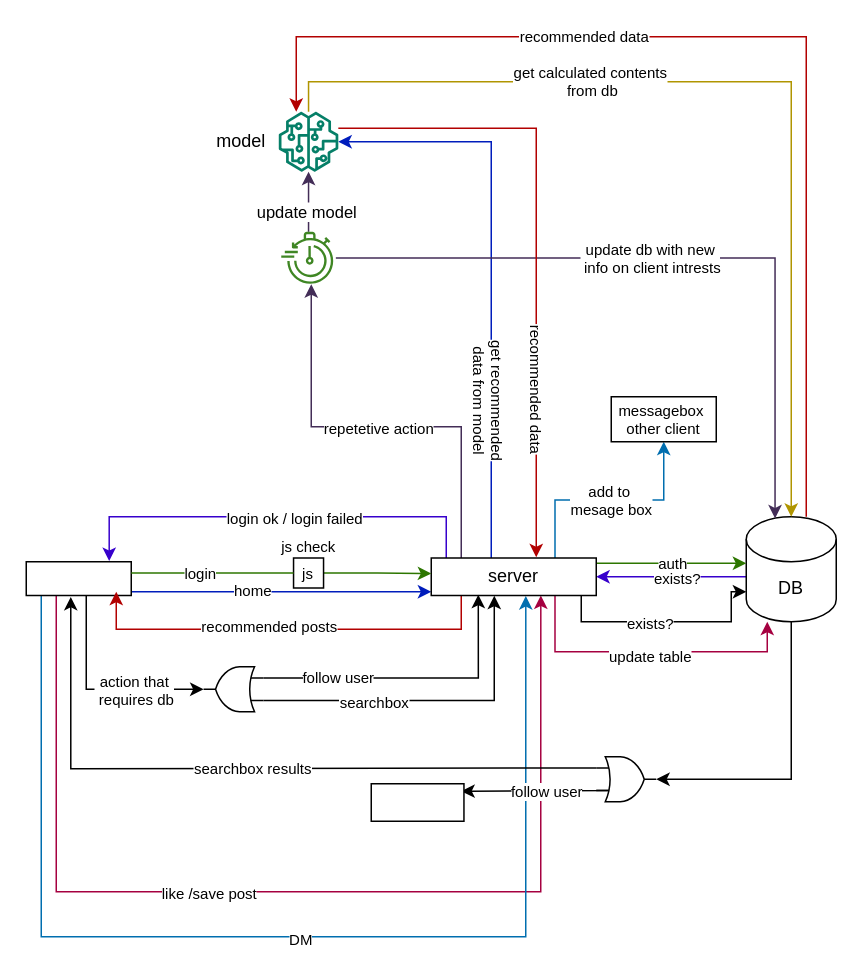
This 863x975 diagram has some shape labels left out. Each missing label, with the box of its shape:
client: (25, 560, 131, 596)
subscribe: (370, 782, 464, 821)
